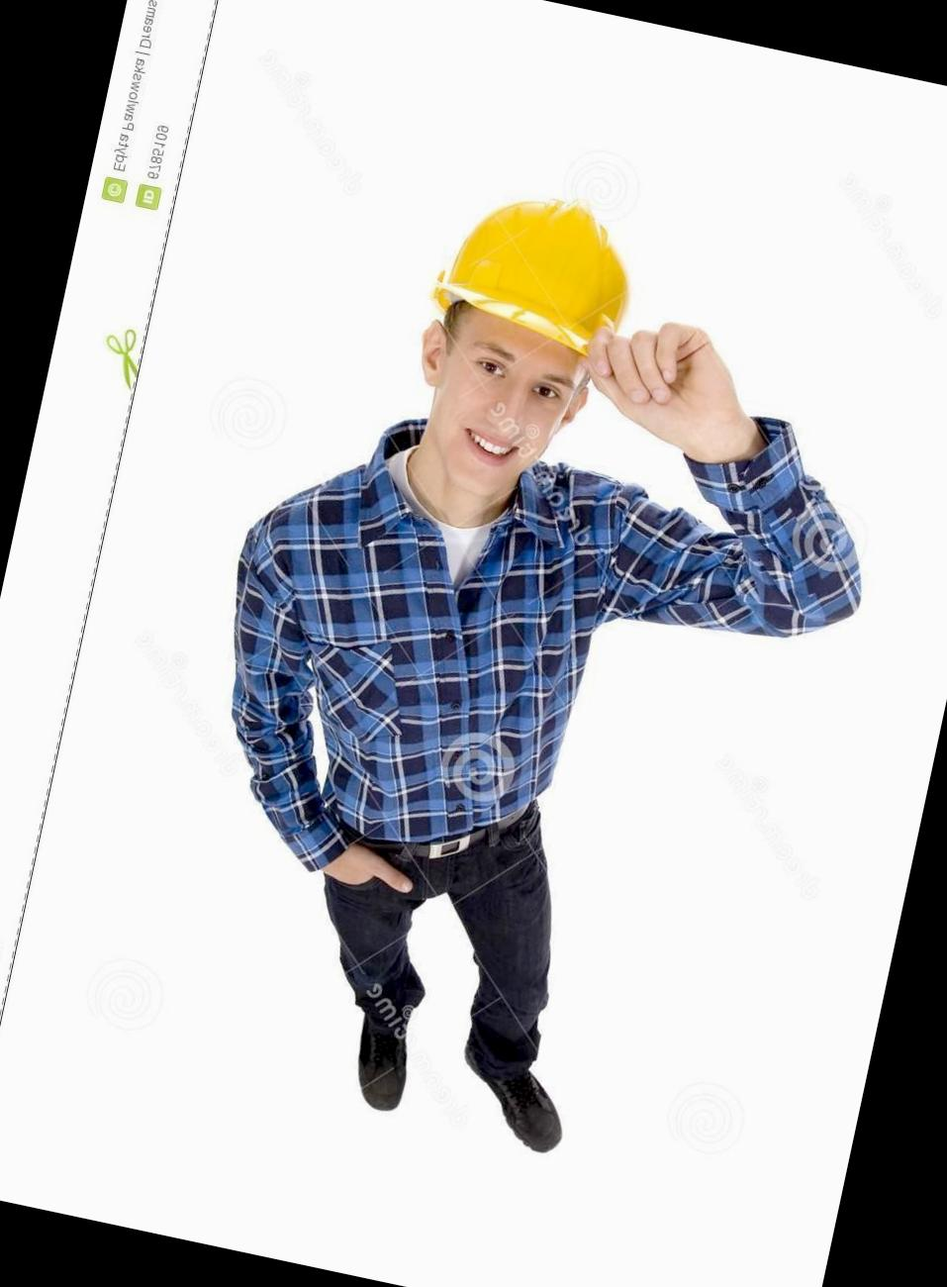helmet: (414, 160, 690, 398)
no_vest: (194, 401, 653, 911)
person: (126, 90, 848, 1161)
